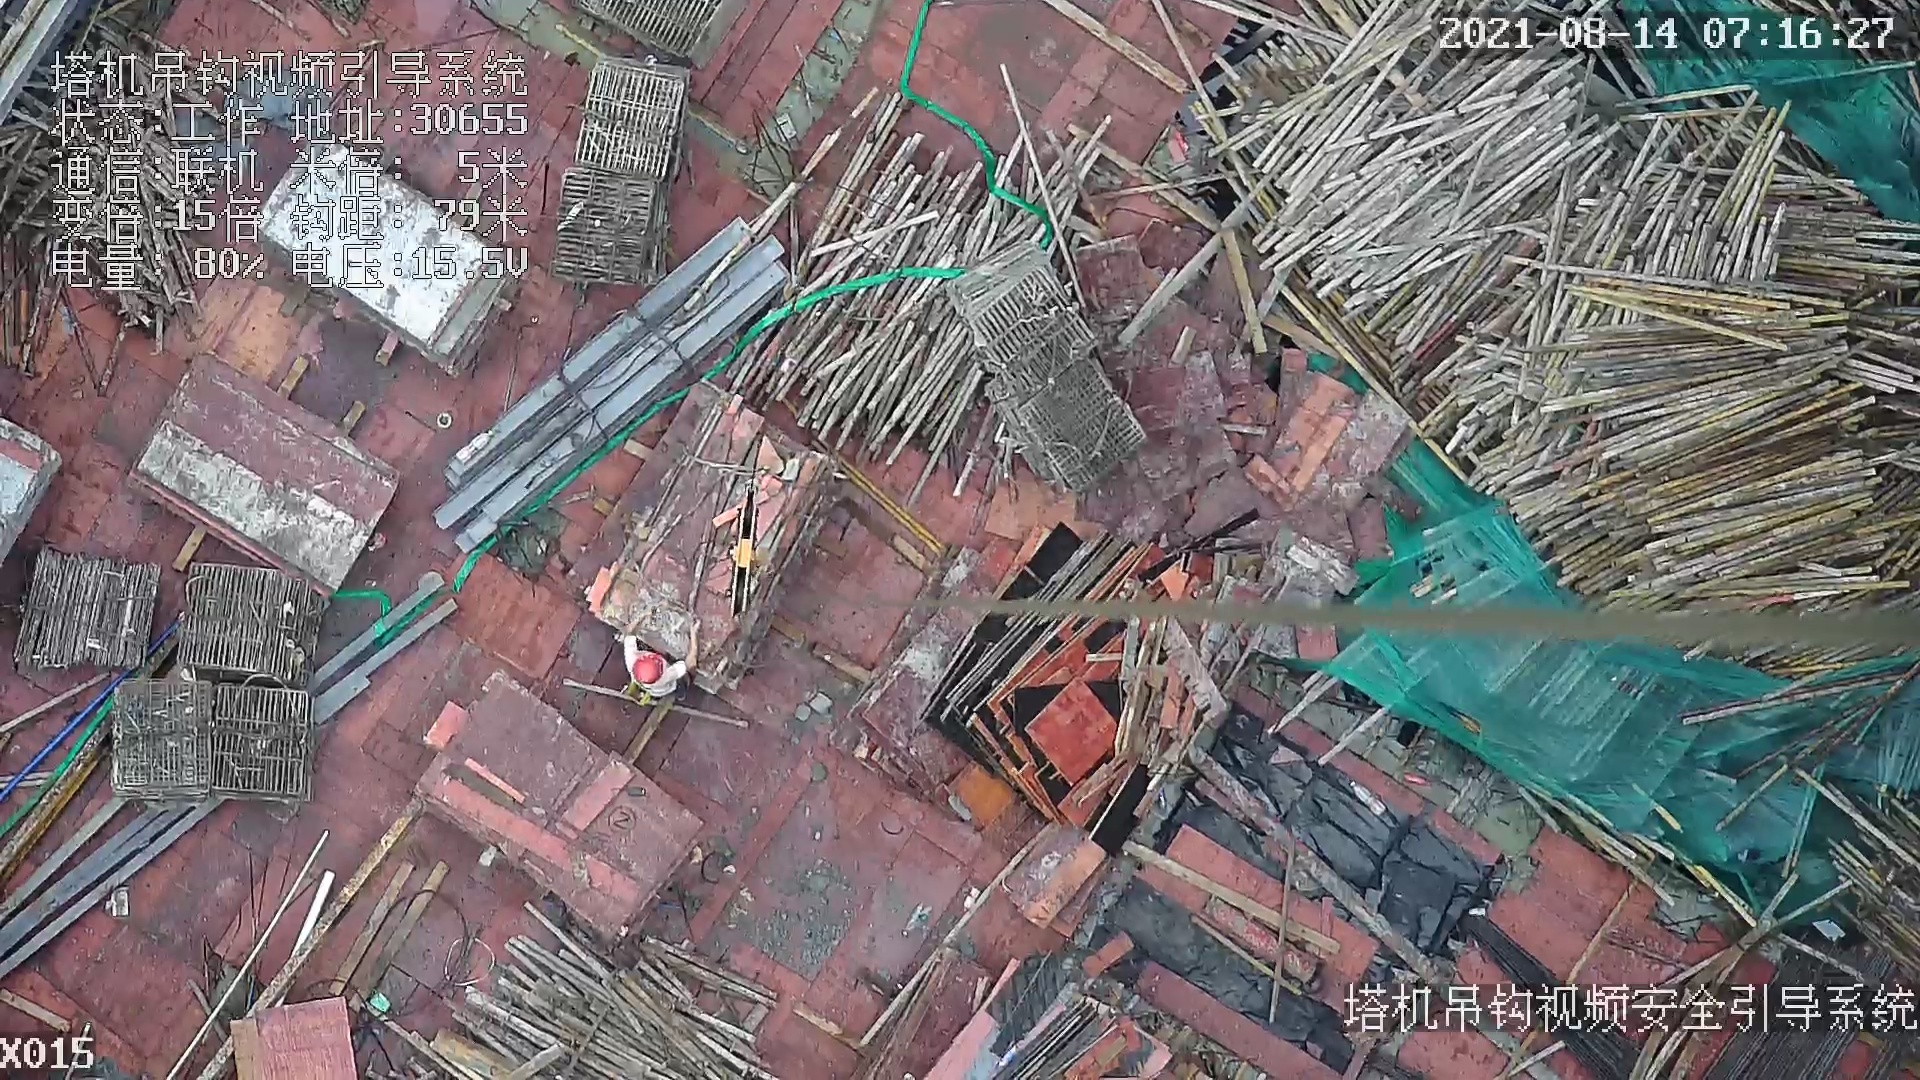helmet: (628, 652, 667, 690)
hook: (720, 482, 760, 619)
person: (626, 604, 705, 699)
